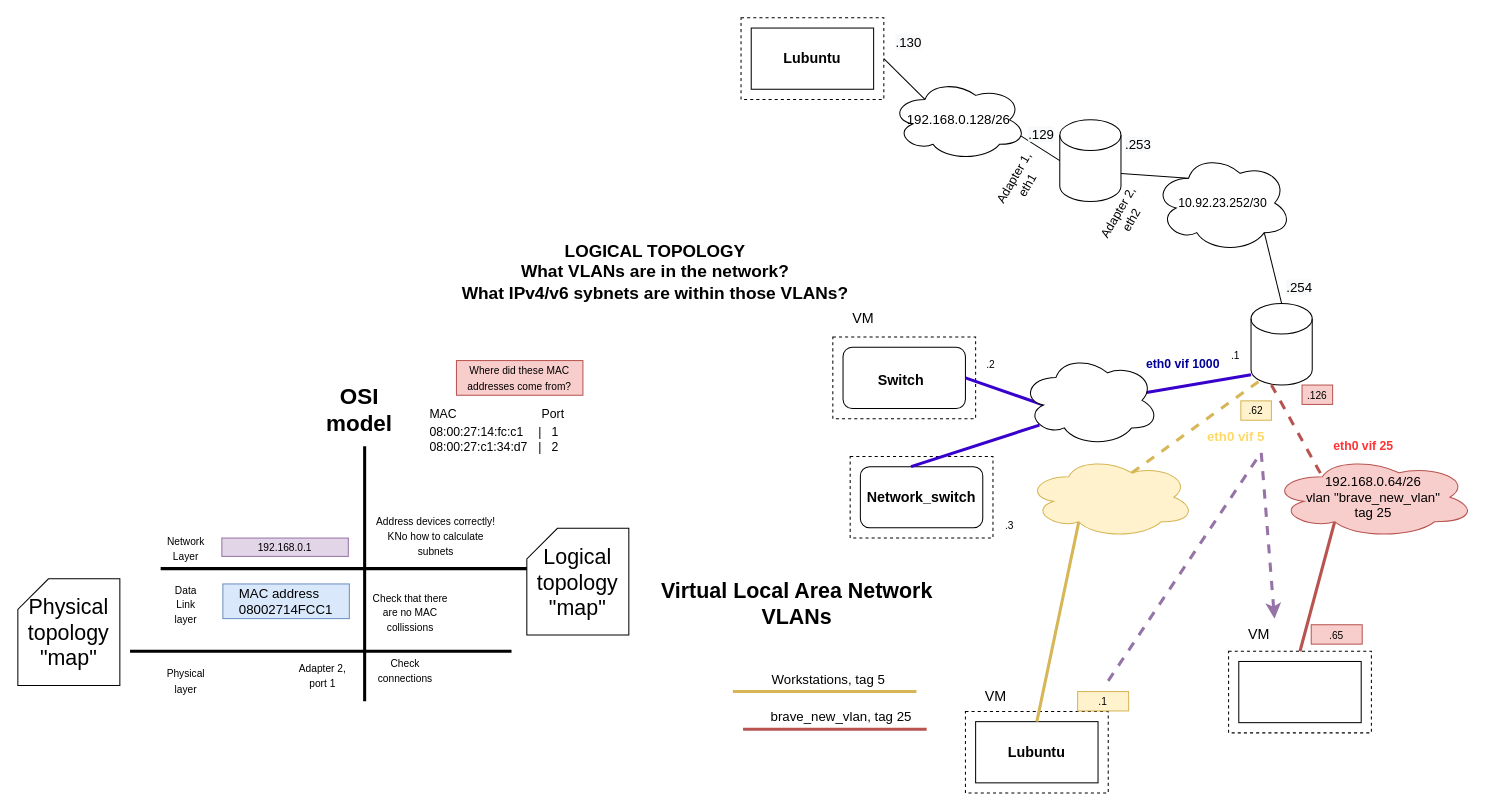
Image size: 1493x811. Some labels were removed from this diagram. Here are the shapes that lost their labels. From the top down, the centre of each, then its label:
At pixel 1090 160: "Router 2".
At pixel 1281 343: "Router (vyos)".
At pixel 1090 399: "10.10.08.0/28 vlan network_devices tag 1000".
At pixel 1110 496: "192.168.0.0/26 vlan workstation tag 5".
At pixel 1299 691: "Lubuntu 2".
